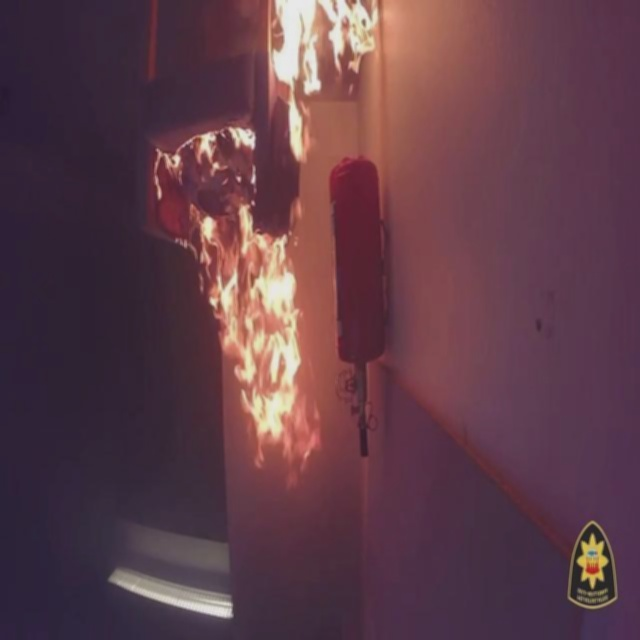fire: (143, 0, 388, 463)
